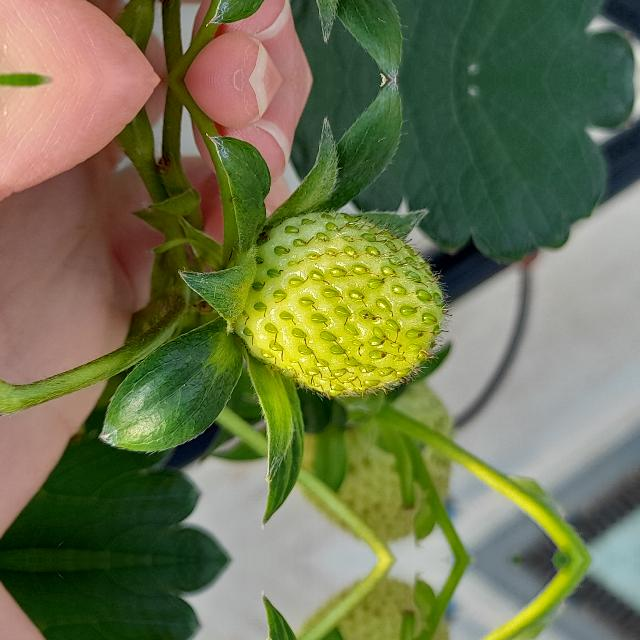Health_25: (233, 207, 452, 401)
